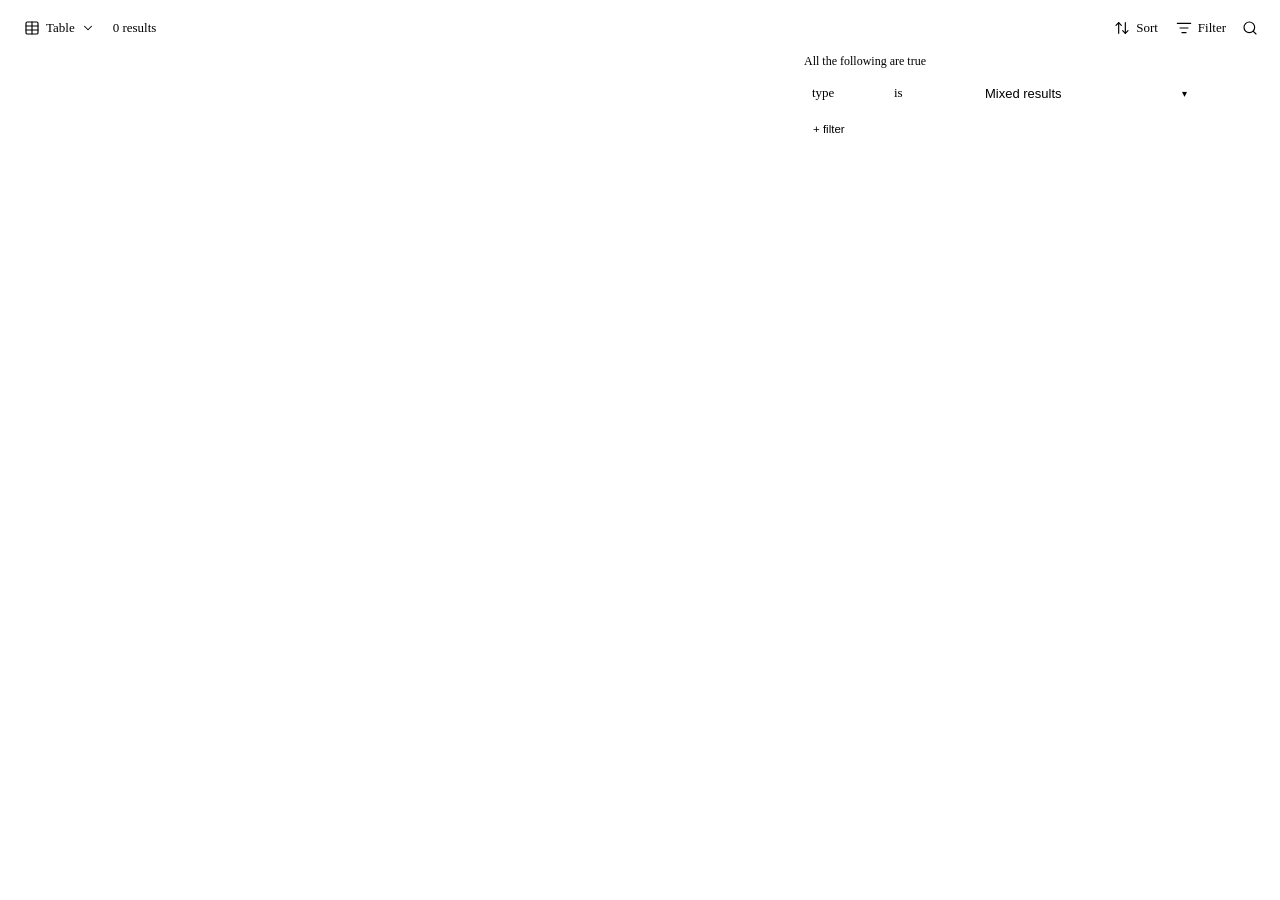
it: Filter popover rows (#617) › × removes the row, clears its filter, and returns the option to the list
The image size is (1280, 900).
Earlier steps of the test are not shown.
Later steps or results of the test are not shown.
Click the button "+ filter": click(829, 129) top-left (804, 117), bottom-right (854, 141)
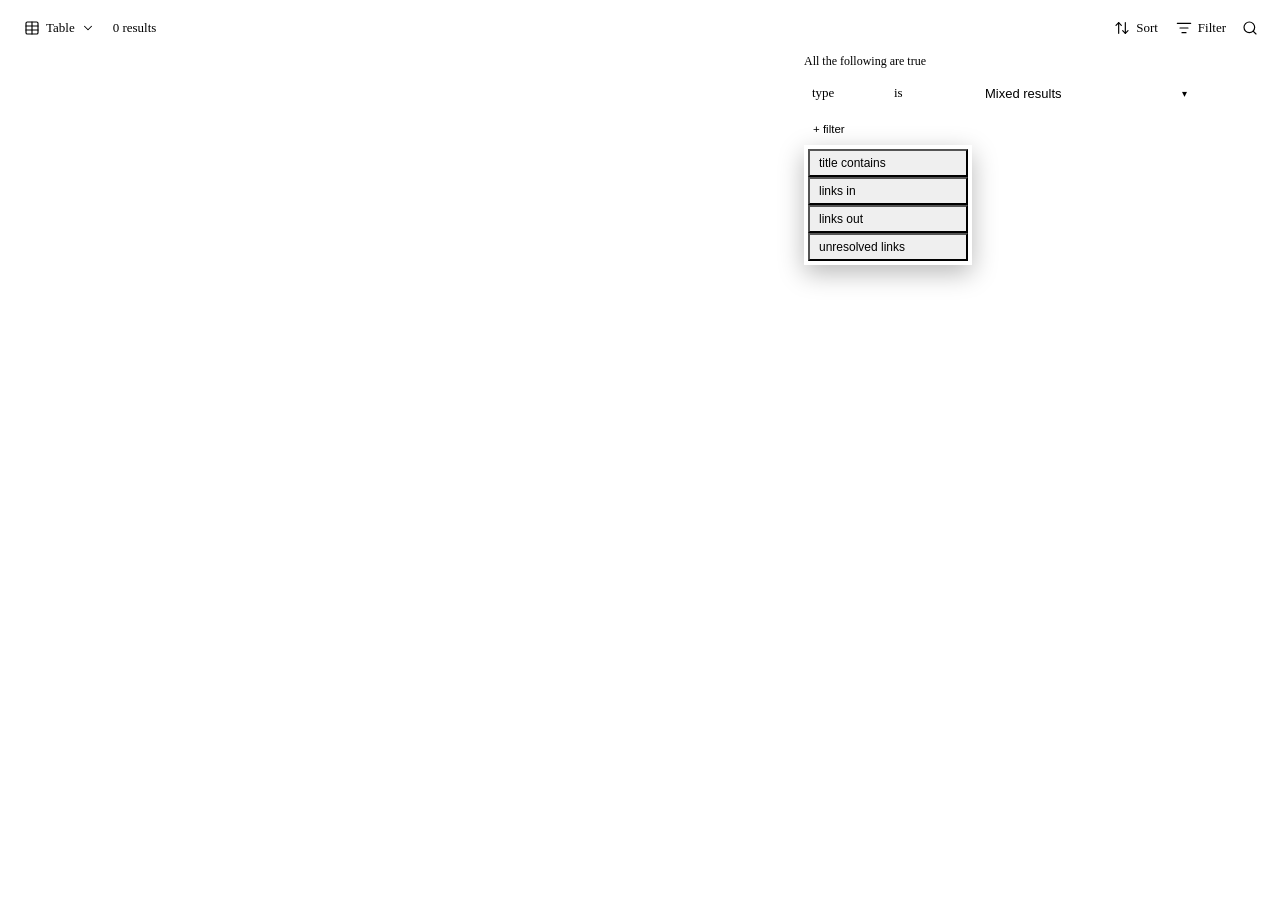
Click the menu item "title contains": click(888, 163) top-left (808, 149), bottom-right (968, 177)
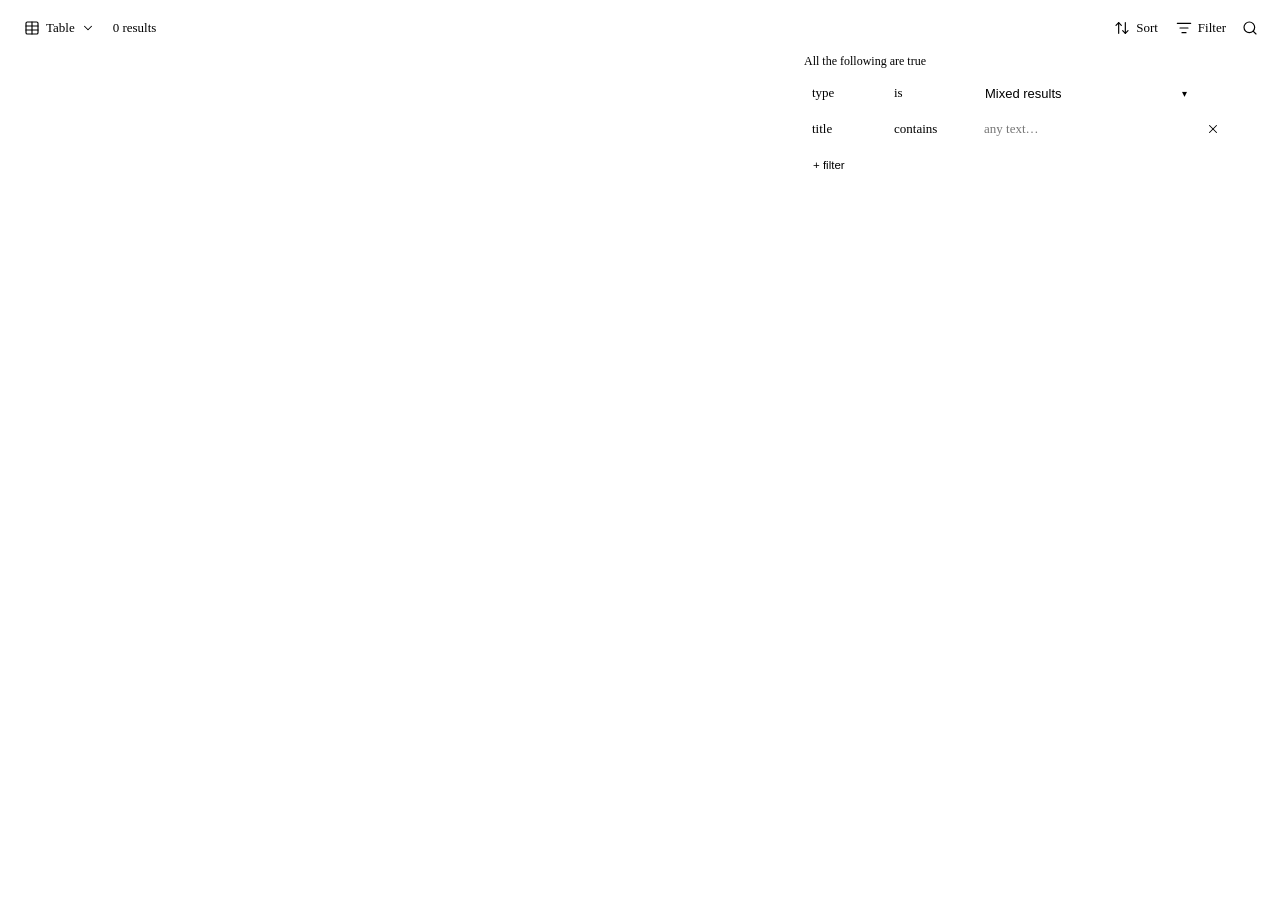
In the field named "title-contains": (1086, 129) top-left (976, 115), bottom-right (1196, 143), type "plan"
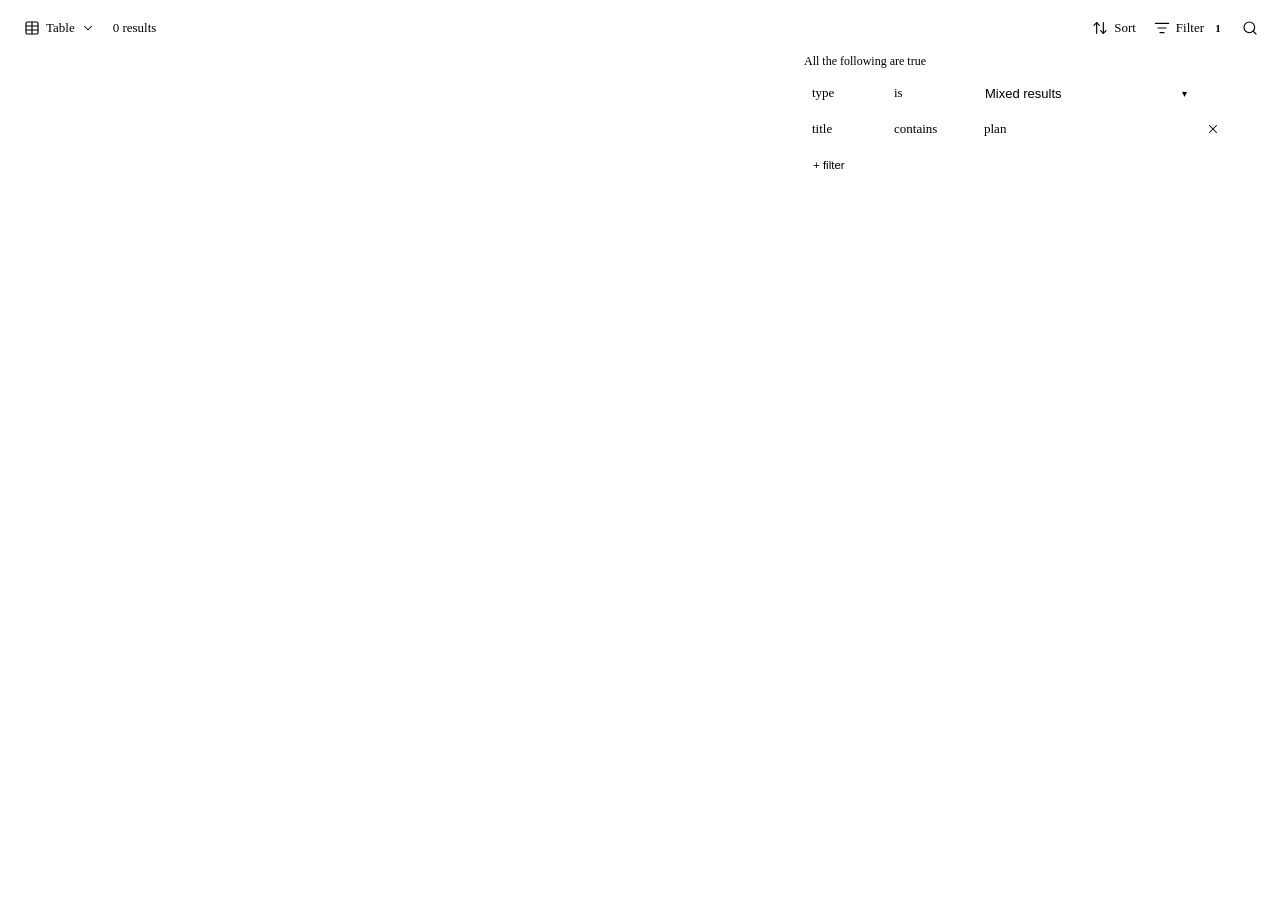
Click the button "+ filter": click(829, 165) top-left (804, 153), bottom-right (854, 177)
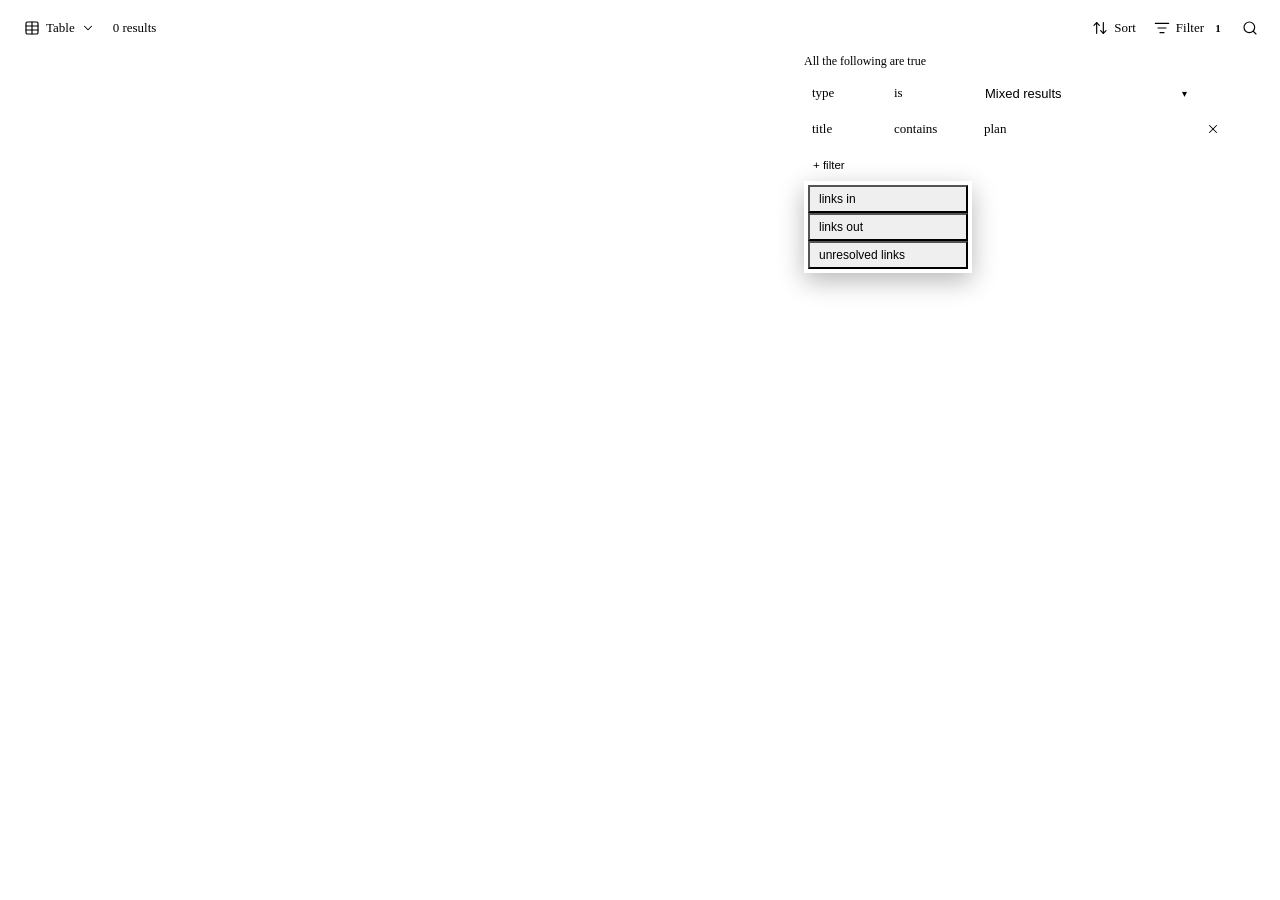
Click the menu item "unresolved links": click(888, 255) top-left (808, 241), bottom-right (968, 269)
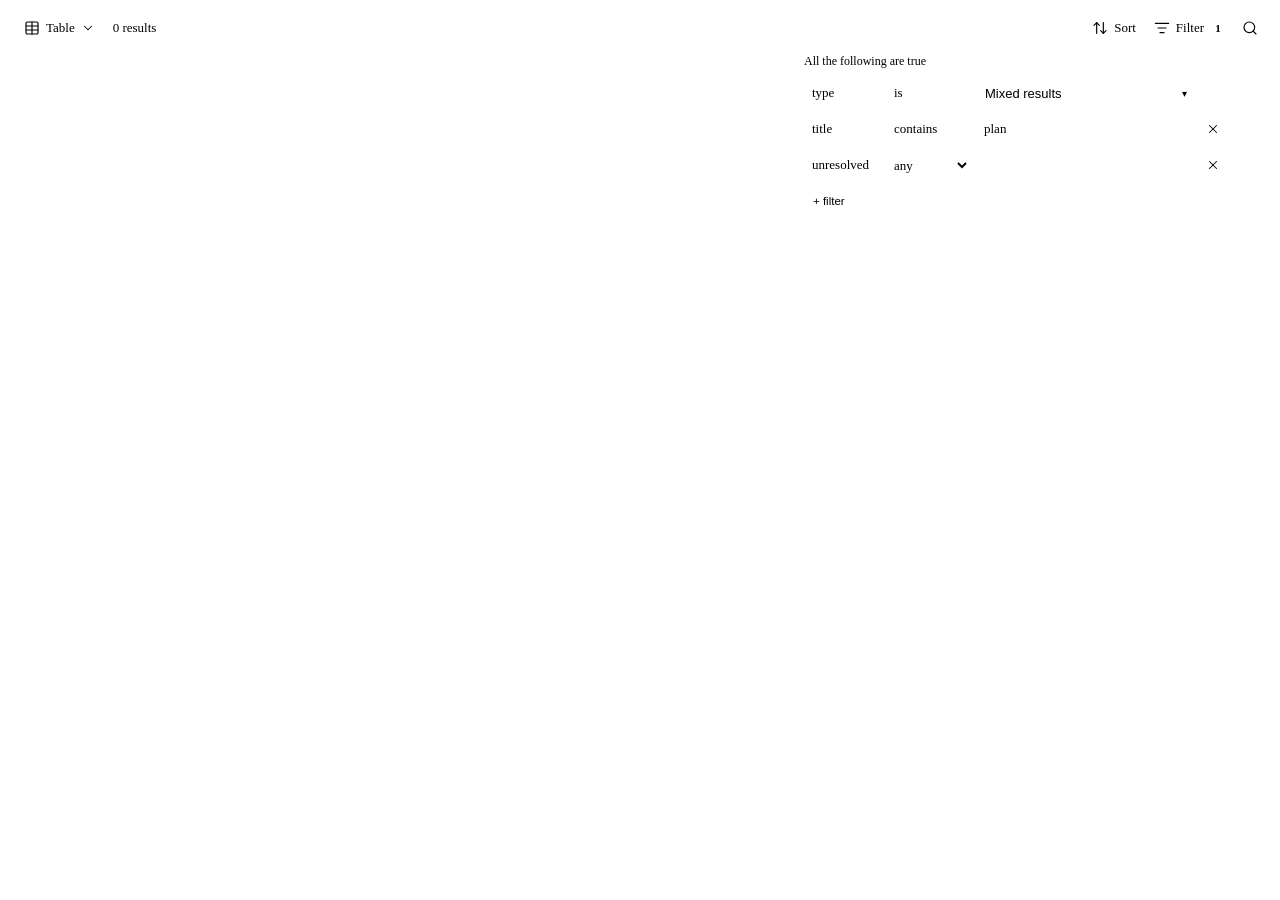
Select "≥" in the dropdown named "unresolved comparison": (928, 165) top-left (886, 151), bottom-right (970, 179)
Click the button named "remove title contains filter": click(1213, 129) top-left (1202, 115), bottom-right (1224, 143)
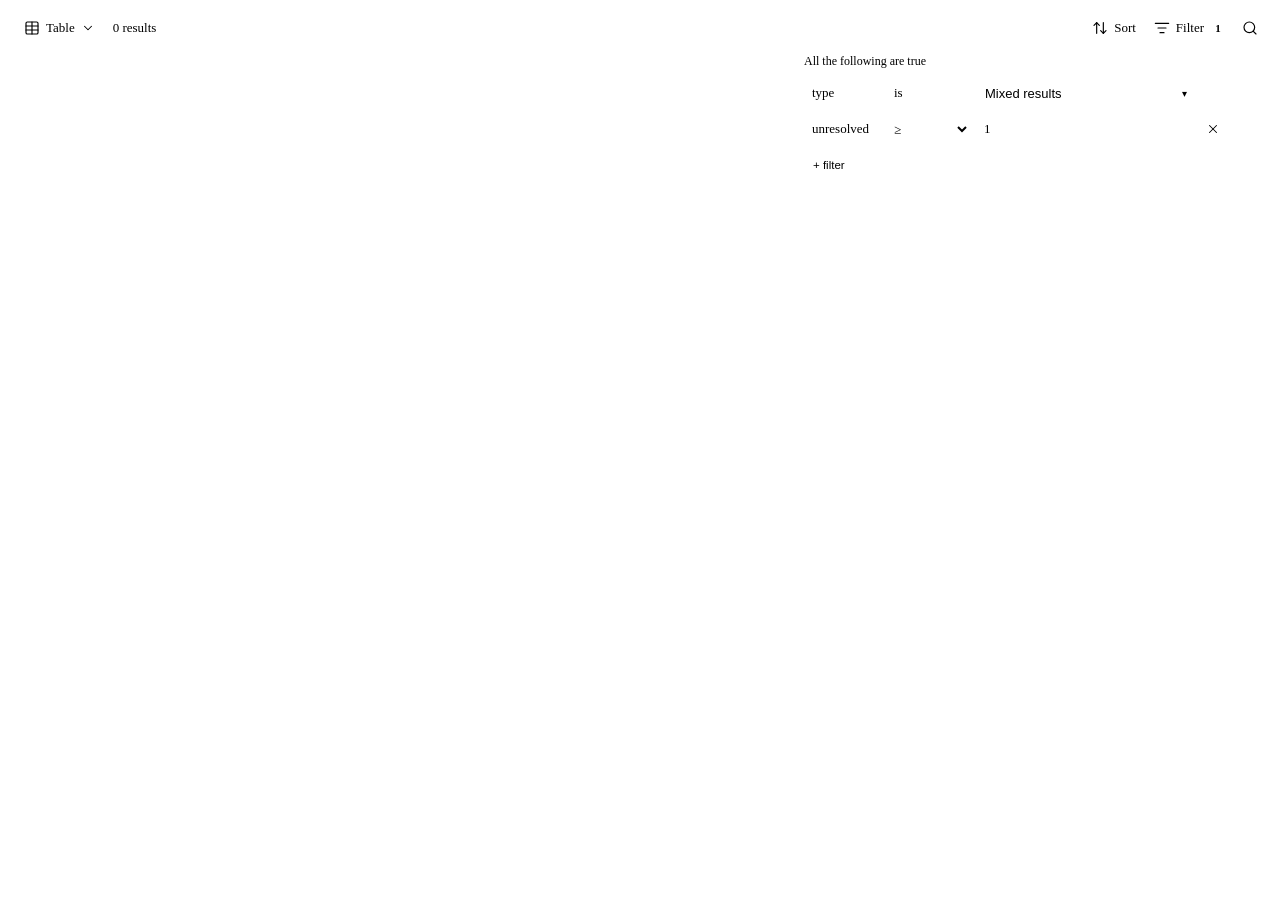
expect the field labelled "title-contains" is gone: met
